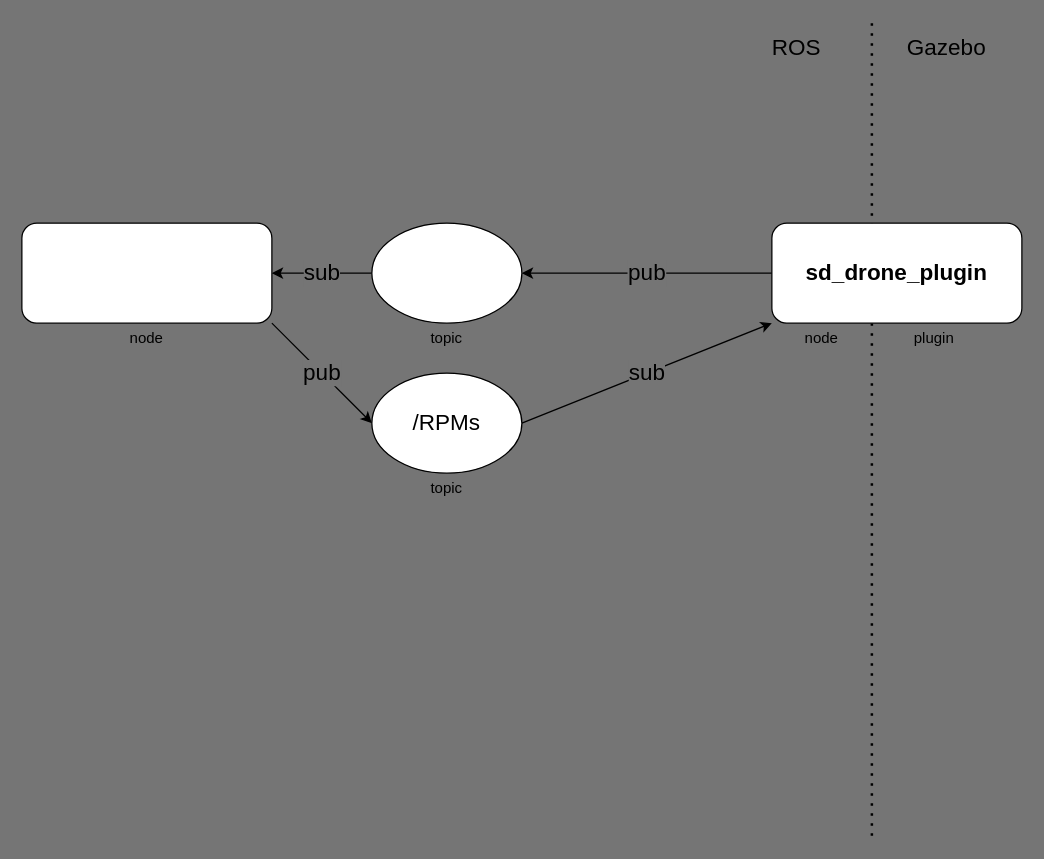
The diagram is 1044 pixels wide and 859 high, and some of its shapes have lost their labels. The shapes that lost their labels are listed below. From the top down, each one's box as (x1, y1, x2, y2) in pixels, then its label:
(21, 222, 272, 323): sd_flight_controller
(371, 222, 522, 323): /pose
